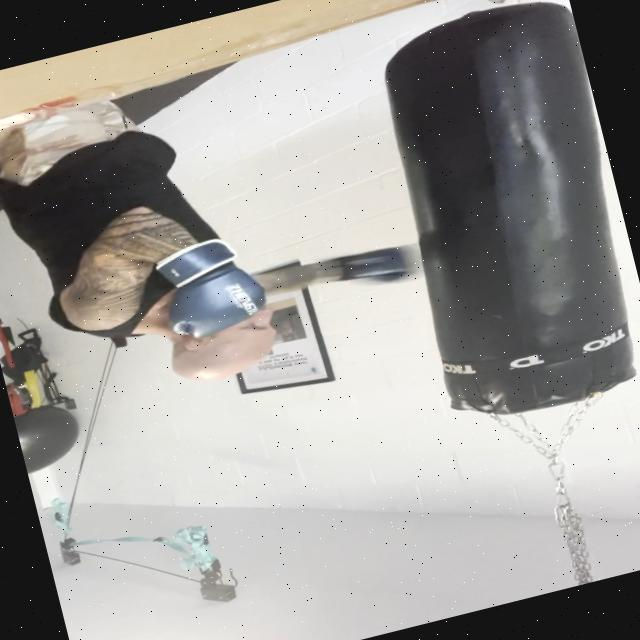bag: (369, 0, 640, 430)
hook: (240, 228, 426, 329)
